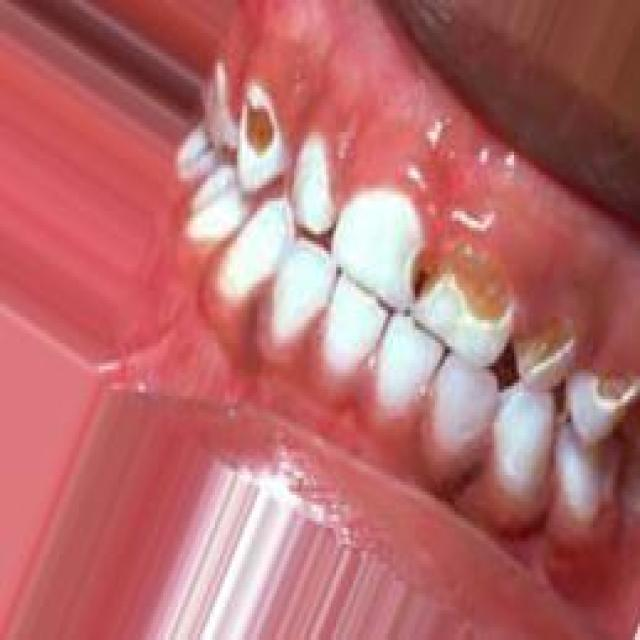caries: (409, 226, 516, 333), (509, 291, 571, 385), (231, 76, 282, 178), (585, 339, 640, 422)
